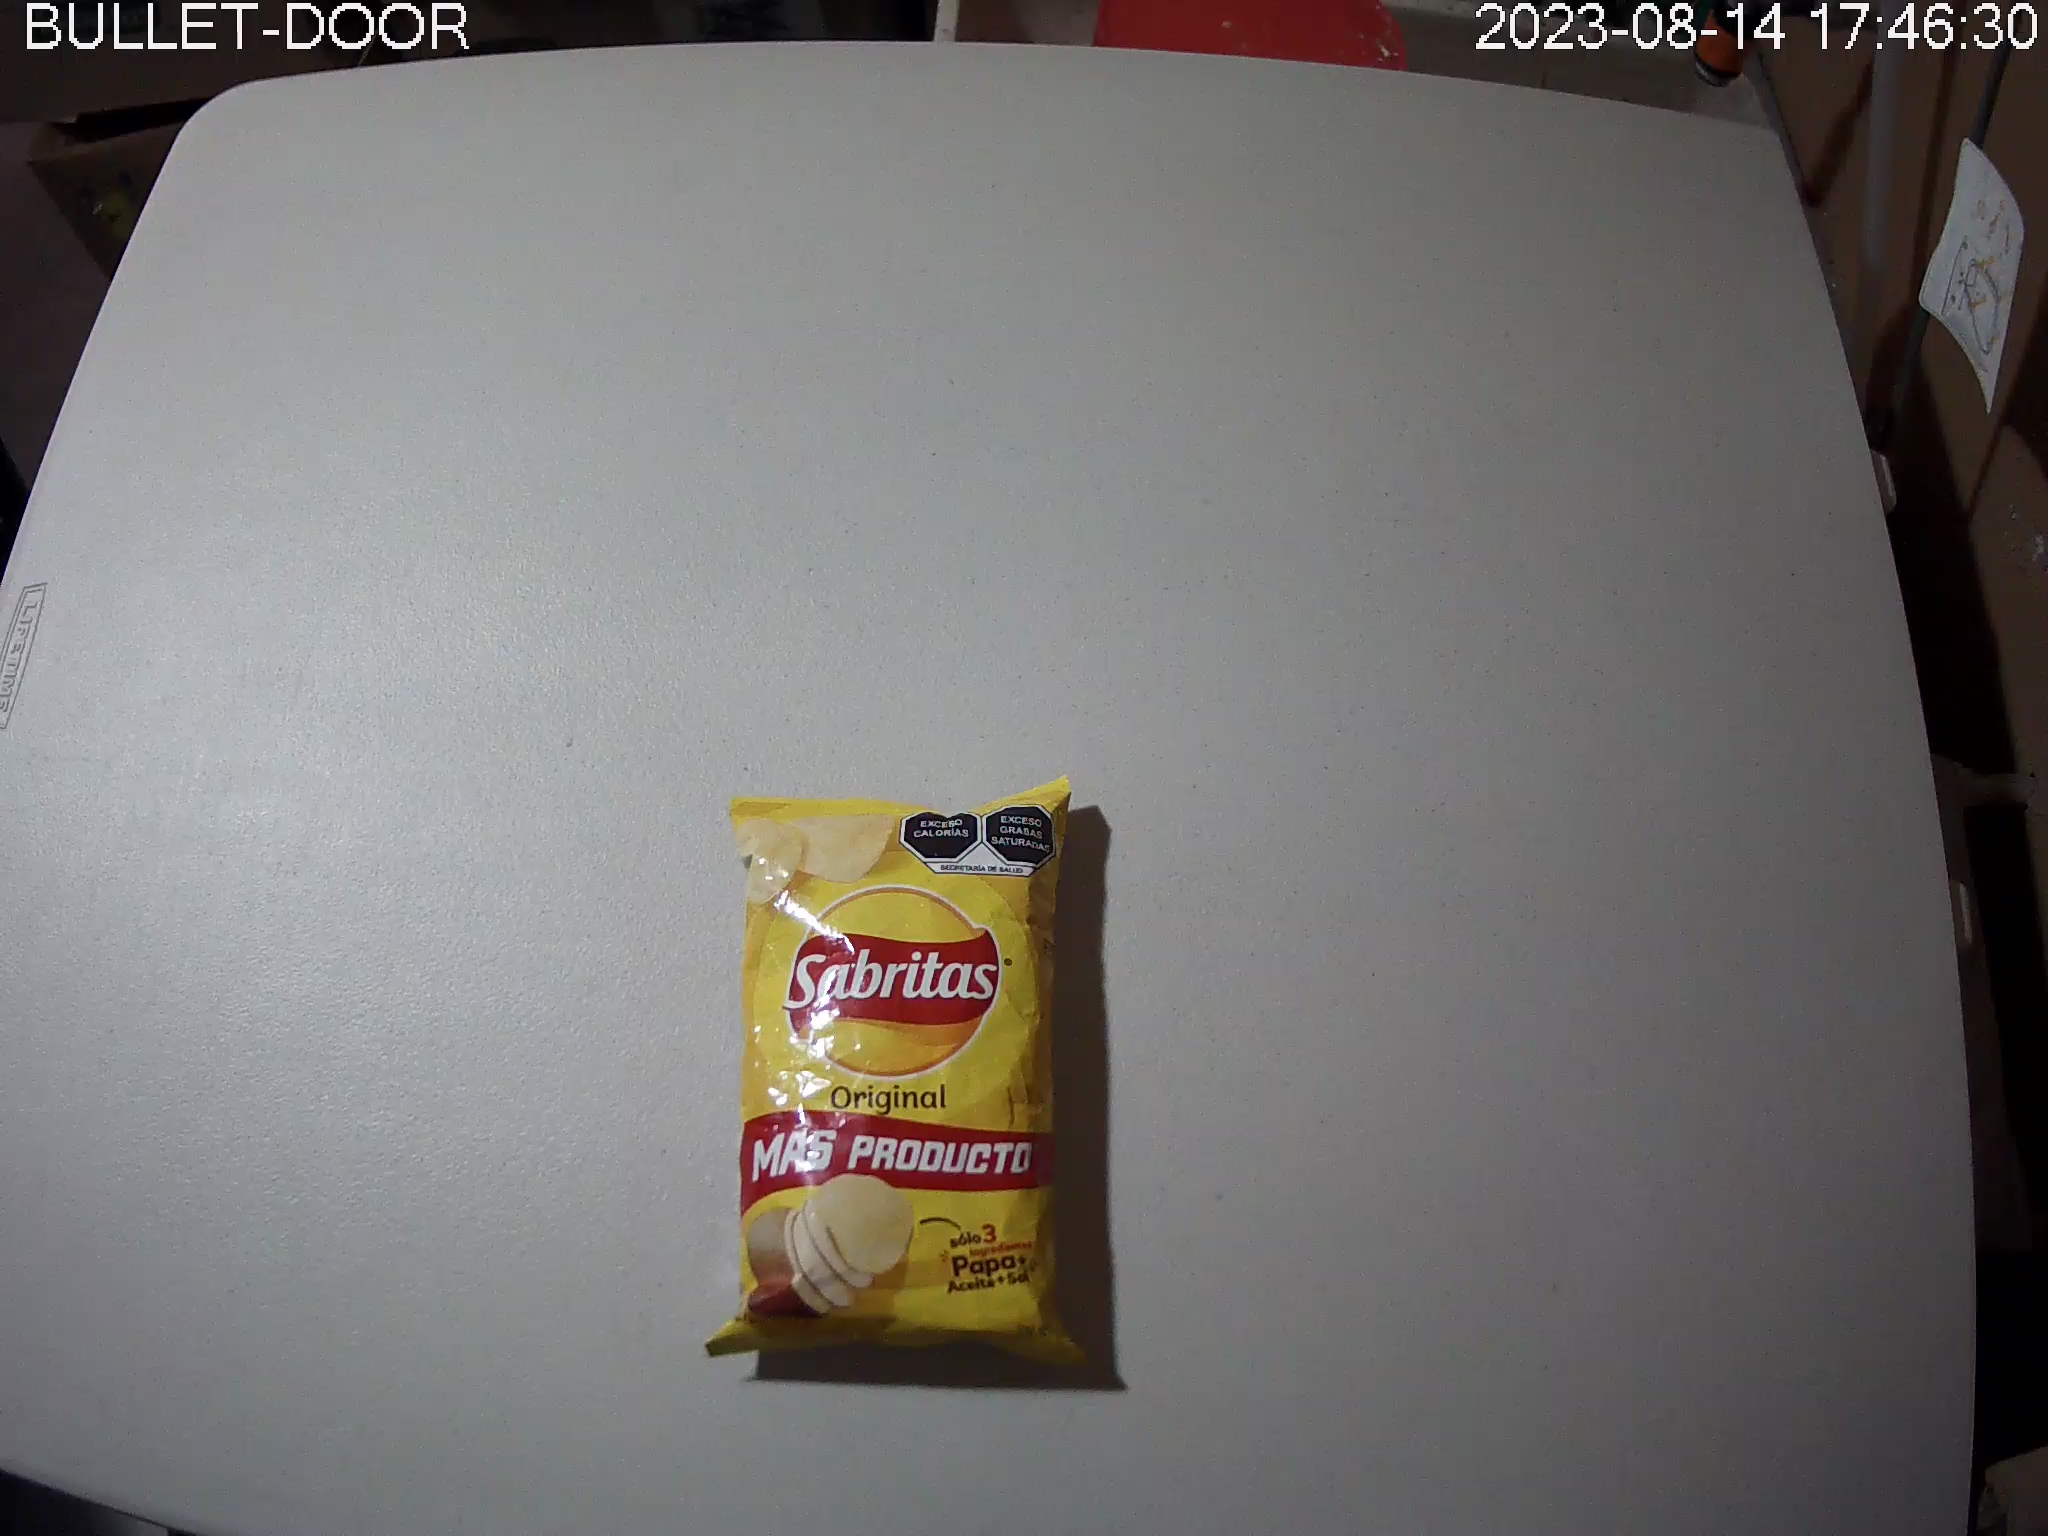Sabritas_45_F: (705, 773, 1089, 1375)
